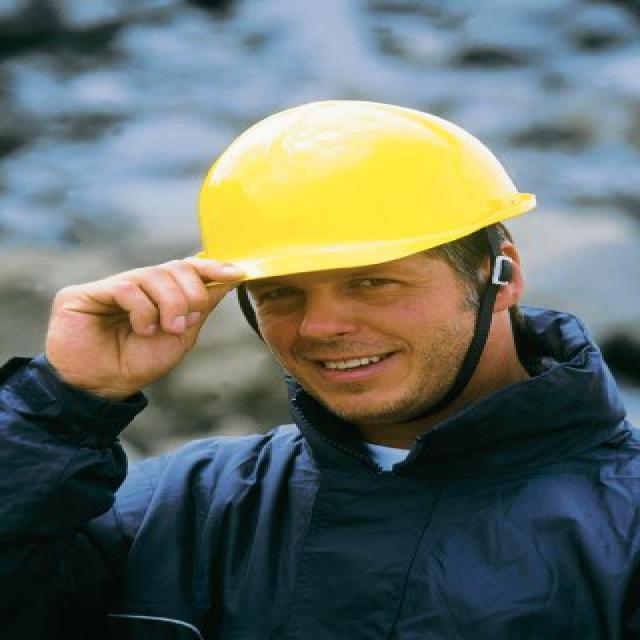Safety-Helmet: (186, 96, 534, 287)
